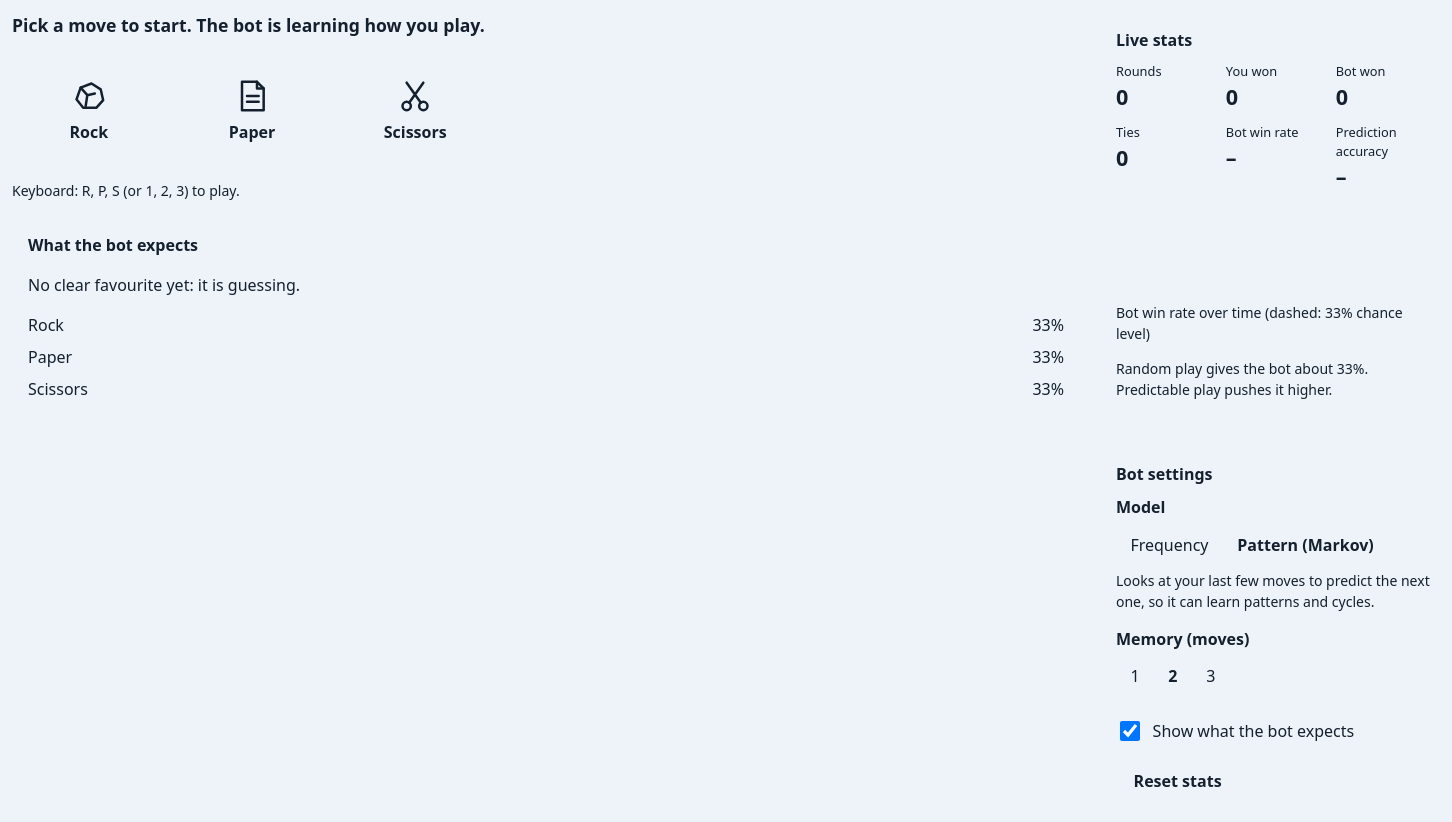
rock-paper-scissors UI › can hide the prediction panel and reset the stats
Type keys "rr"
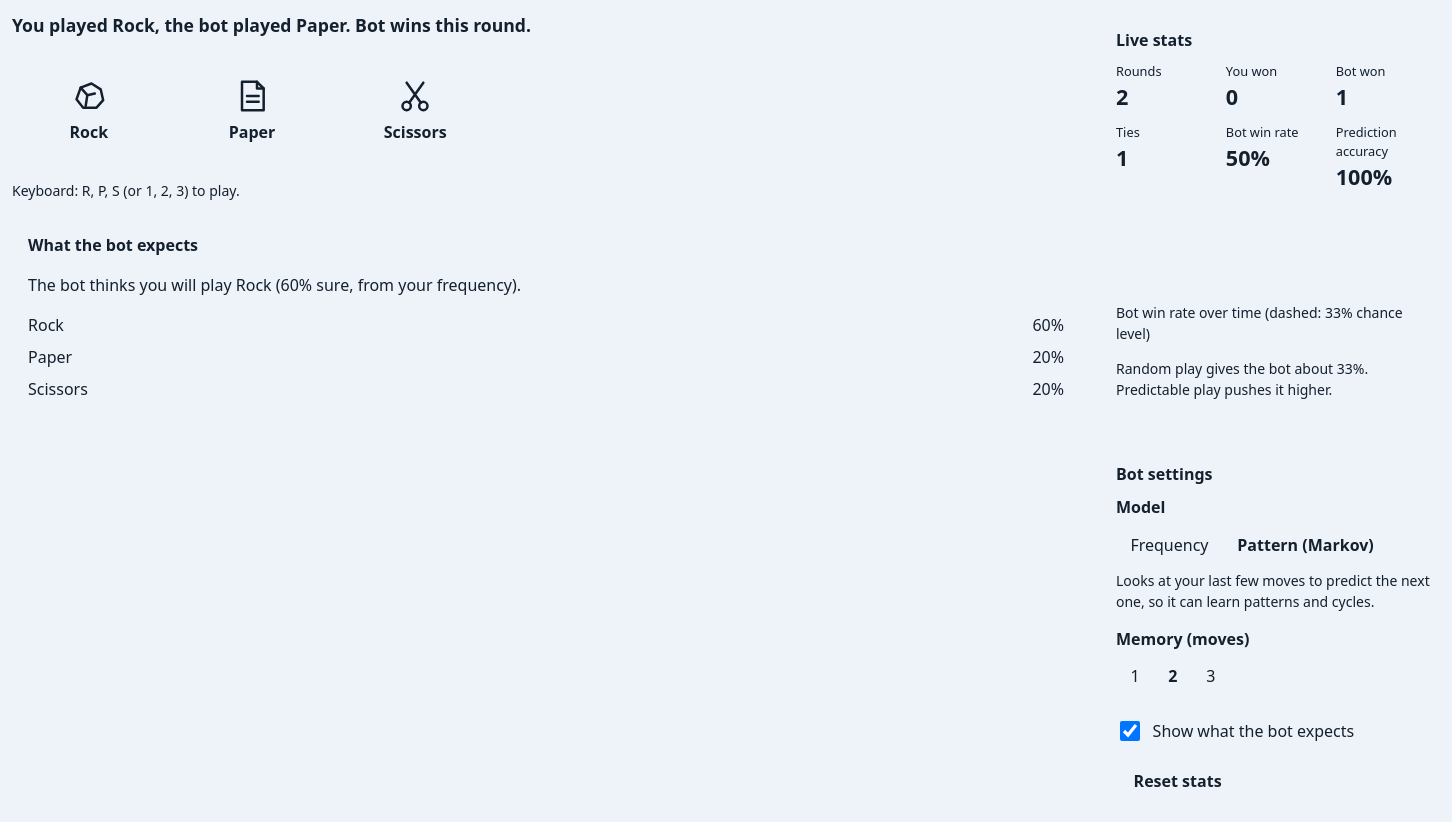
Click the checkbox labelled "Show what the bot expects".
click(1130, 731)  # box x1=1120 y1=721 x2=1140 y2=741
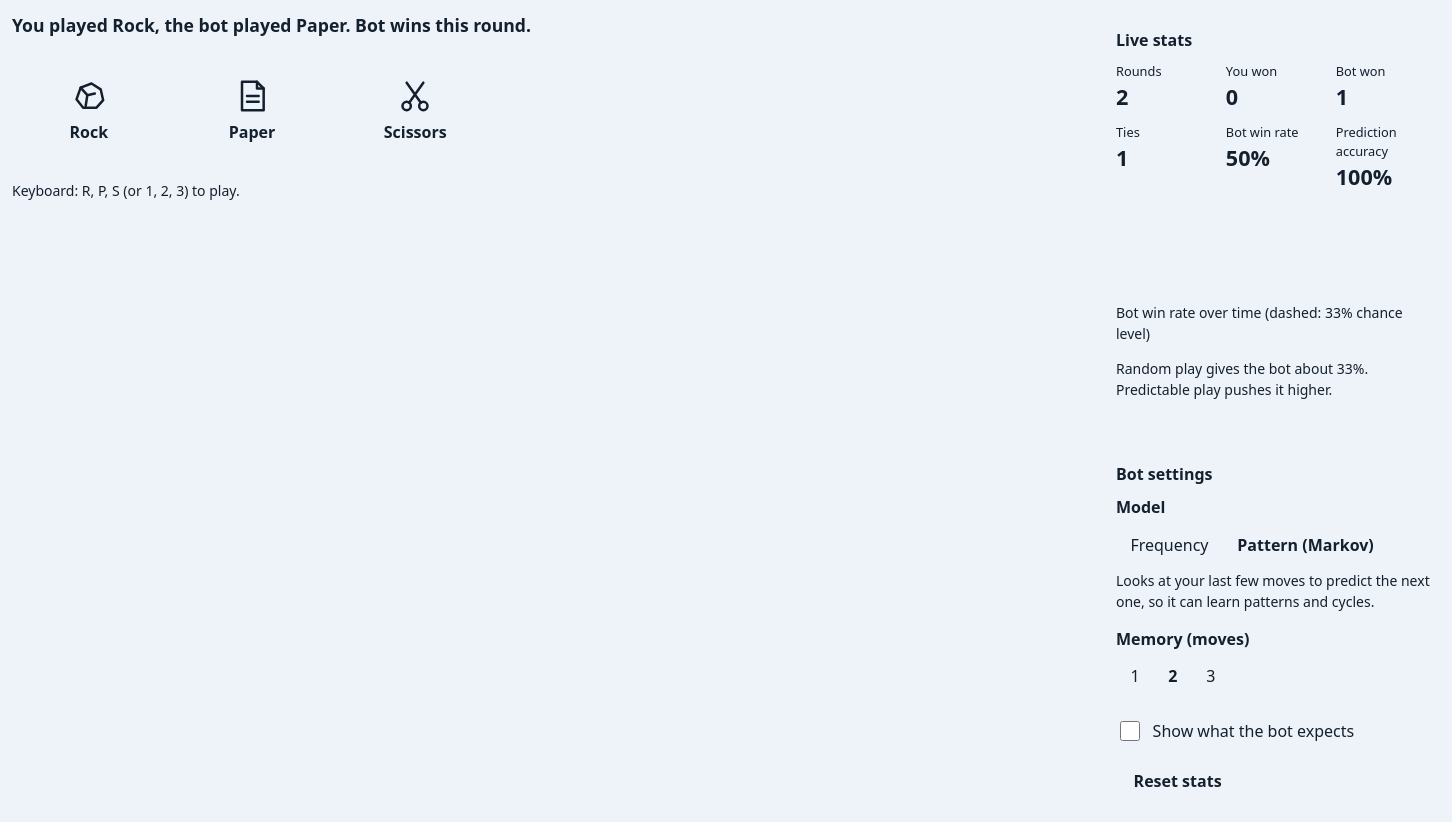
Click the button "Reset stats".
click(1178, 781)  # box x1=1116 y1=759 x2=1239 y2=803
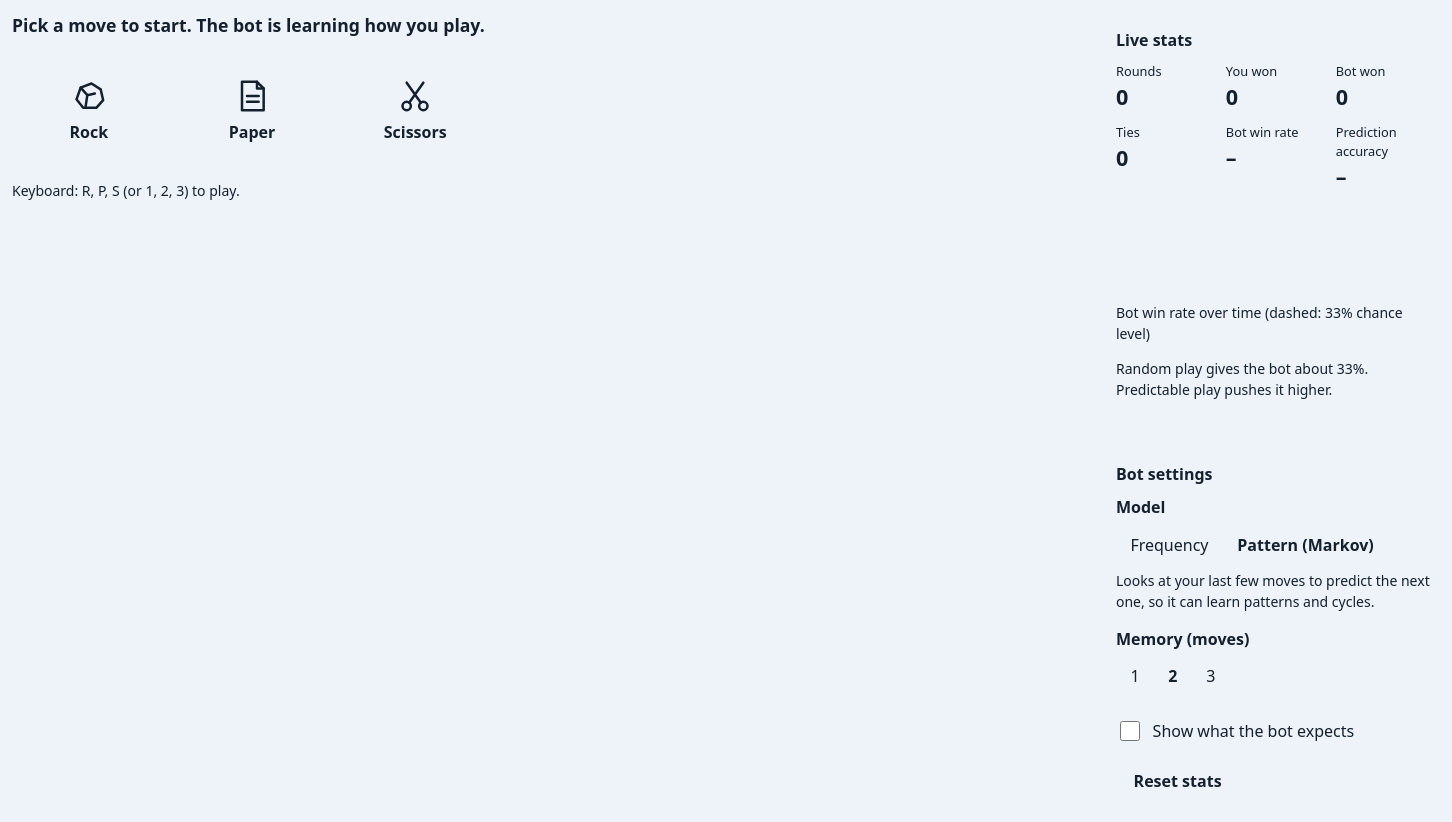
Now the message shows "Pick a move to start", box x1=12 y1=13 x2=485 y2=37
